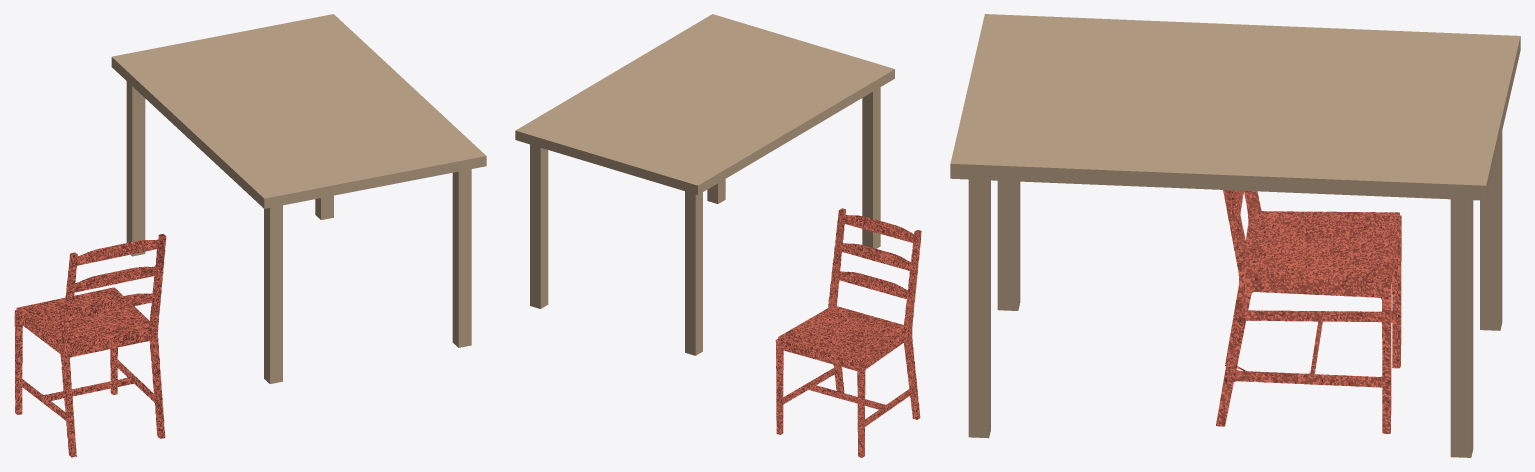
Rendered from hum_10_chair_sit_props.glb.
3 views of the same model, side by side, from view 1: azimuth 30°, elevation 25°; view 2: azimuth 150°, elevation 25°; view 3: azimuth 270°, elevation 25° (orthographic). The views are drawn at different scales.
Visible parts, largest first — view 1: s_mesh_00, o00; view 2: s_mesh_00, o00; view 3: s_mesh_00, o00.
Boxes of the visible parts, <box> form: s_mesh_00: <box>111,14,486,383</box>; o00: <box>14,233,166,457</box>; s_mesh_00: <box>515,14,894,355</box>; o00: <box>775,208,921,457</box>; s_mesh_00: <box>950,14,1520,457</box>; o00: <box>1216,190,1401,433</box>.
Size of the model in its own units: 1.43 by 1.14 by 1.38.
